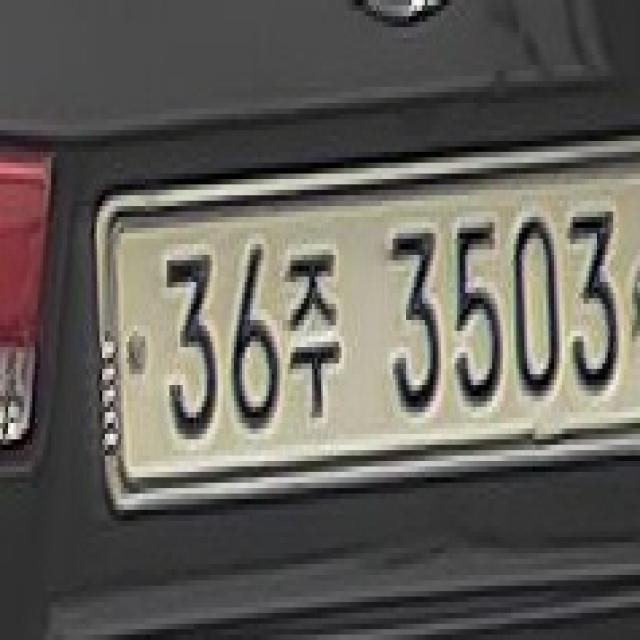0: (511, 212, 562, 402)
3: (161, 244, 218, 445), (385, 222, 441, 418), (568, 206, 622, 396)
5: (452, 211, 503, 407)
6: (226, 244, 282, 429)
ju: (285, 244, 342, 423)
license_plate: (97, 136, 640, 510)
